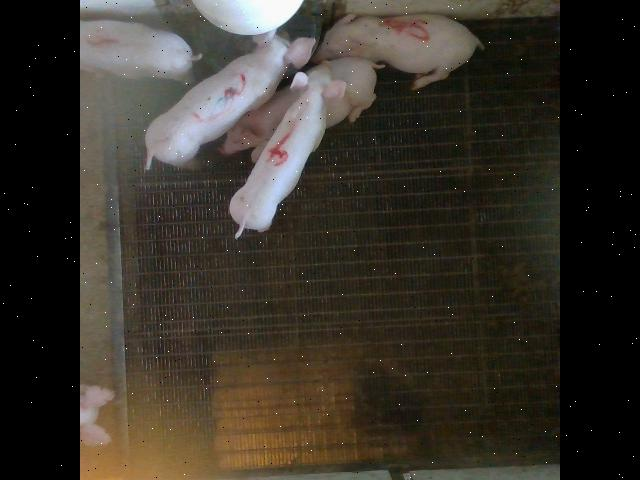pig-1: (82, 20, 201, 79)
pig-3: (146, 30, 315, 168)
pig-4: (229, 63, 345, 236)
pig-5: (313, 12, 482, 89)
